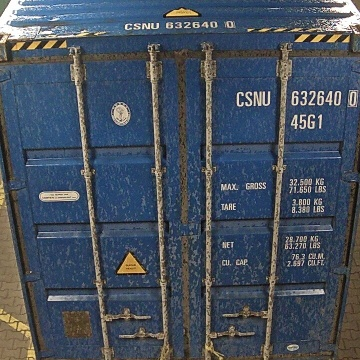serial_id: (237, 90, 358, 106)
